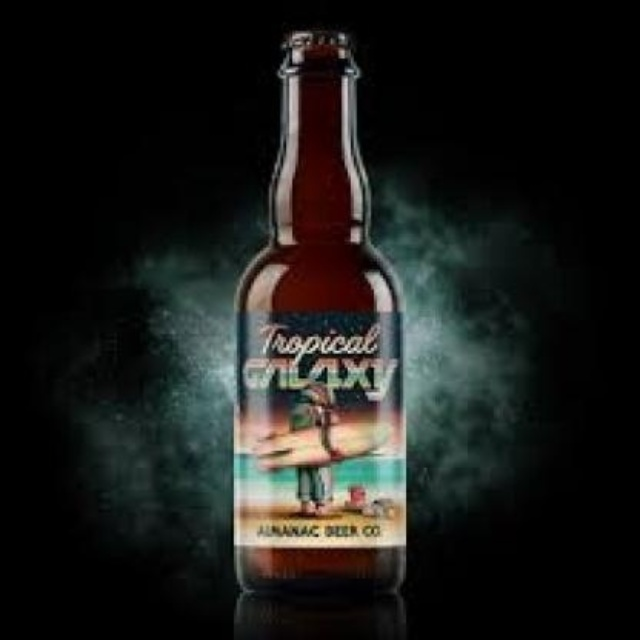trash: (234, 31, 405, 592)
